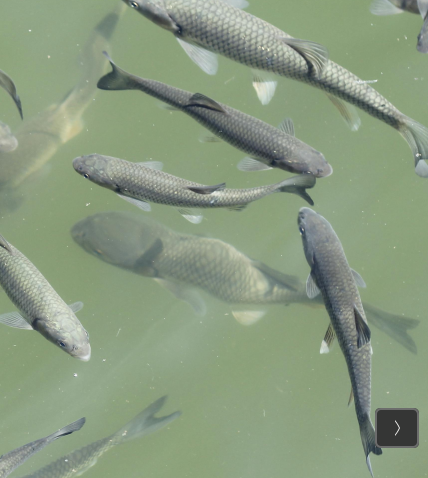fishLarge: (68, 214, 420, 355), (185, 52, 428, 179), (99, 59, 333, 179), (296, 206, 383, 477), (72, 152, 315, 224), (20, 395, 181, 477), (0, 234, 93, 364), (0, 416, 86, 477)
